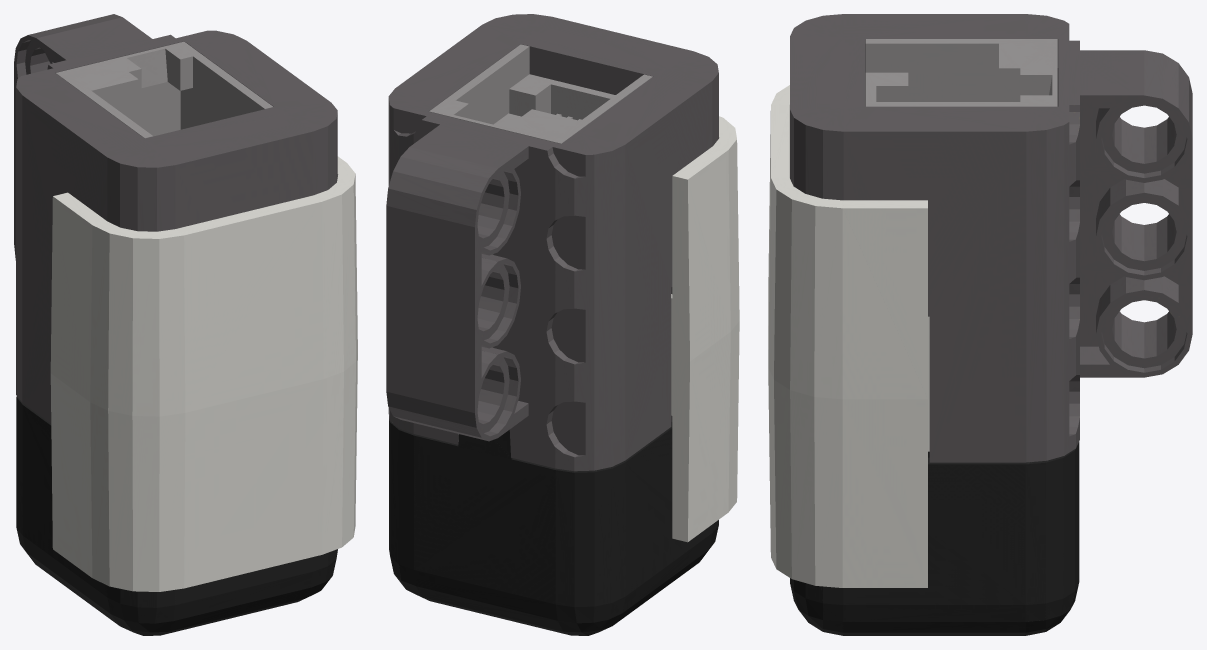
3 views of the same model, side by side, from view 1: azimuth 30°, elevation 25°; view 2: azimuth 150°, elevation 25°; view 3: azimuth 270°, elevation 25° (orthographic). The views are drawn at different scales.
Parts seen in each view (by area): view 1: node; view 2: node; view 3: node.
Part boxes in pixels (x1=…): node: x1=14, y1=14, x2=357, y2=635; node: x1=386, y1=14, x2=739, y2=635; node: x1=768, y1=14, x2=1192, y2=635.
Bounding box in the file's own units: 59.5 × 106 × 78.5.
1 material, 1 textured.
